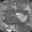people: (16, 12, 28, 22)
